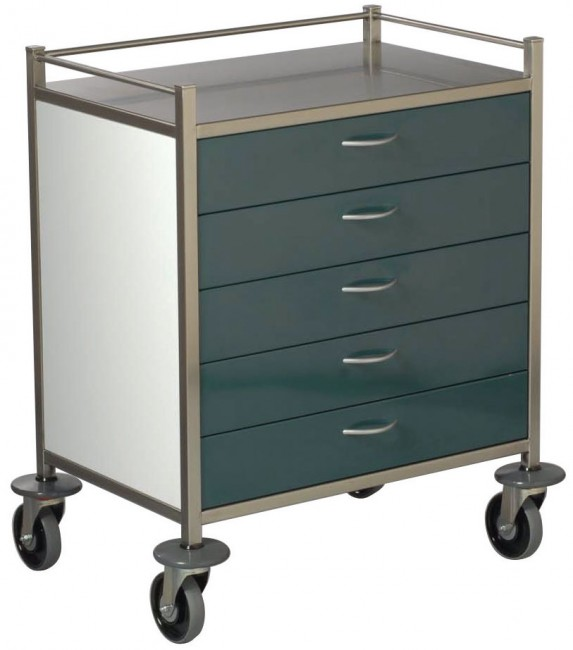Carts: (12, 2, 567, 646)
